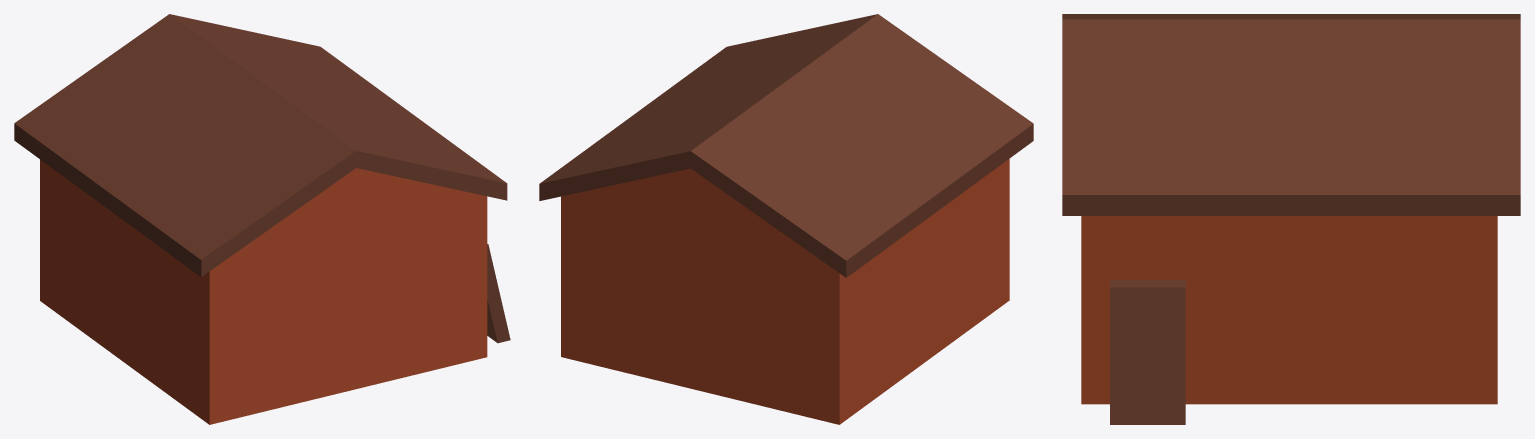
File: House_2.fbx
3 renders of one model, left to right at view 1: azimuth 30°, elevation 25°; view 2: azimuth 150°, elevation 25°; view 3: azimuth 270°, elevation 25°, orthographic. The views are drawn at different scales.
Parts seen in each view (by area): view 1: Cube.008; view 2: Cube.008; view 3: Cube.008.
Part boxes in pixels (box(x1,y1,x2,y2)): Cube.008: box(14, 14, 510, 424); Cube.008: box(539, 14, 1033, 424); Cube.008: box(1062, 14, 1520, 424).
Bounding box in the file's own units: 565 × 404 × 556.
